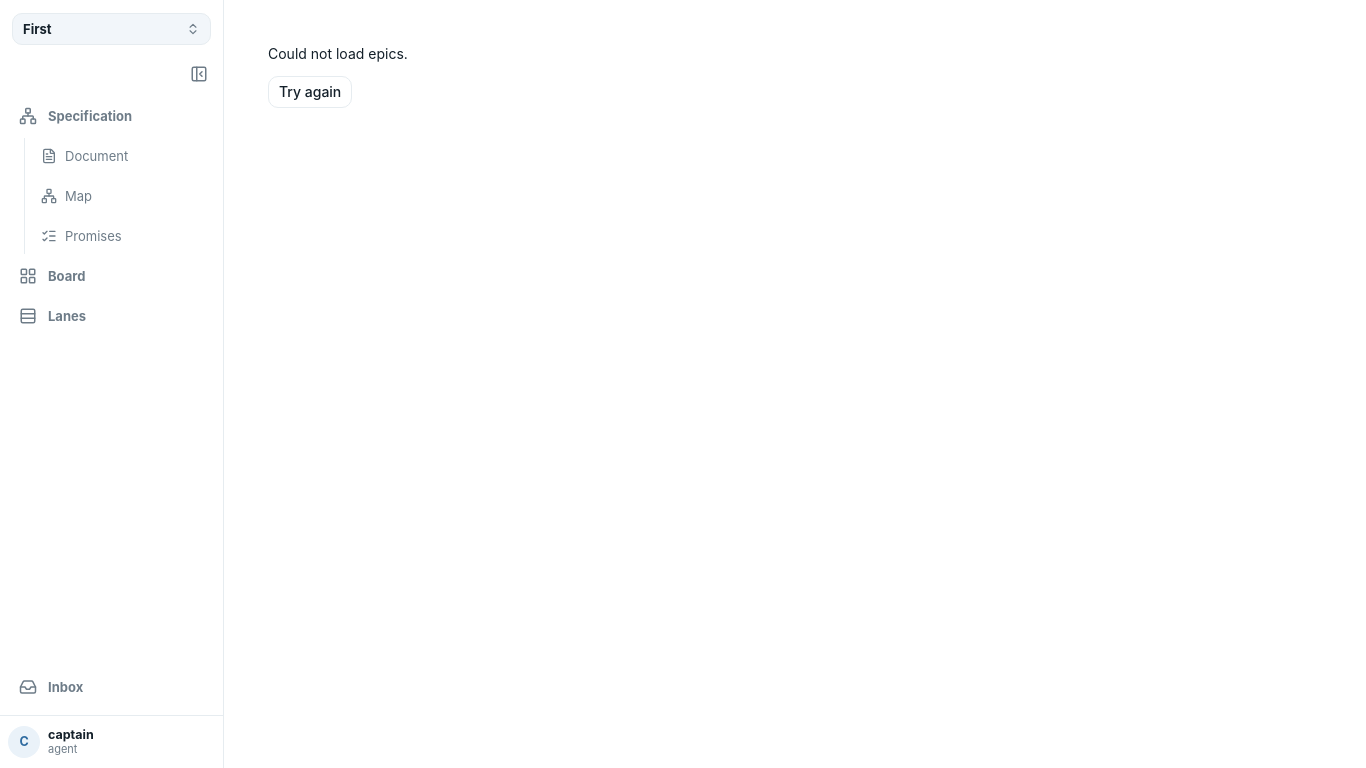
Epics page › distinguishes failed loading from empty and retries
The width and height of the screenshot is (1366, 768).
Expected: the message shows "Could not load epics.", [268,45,408,62]
Click the button "Try again".
click(310, 92)  # box [268,76,352,108]
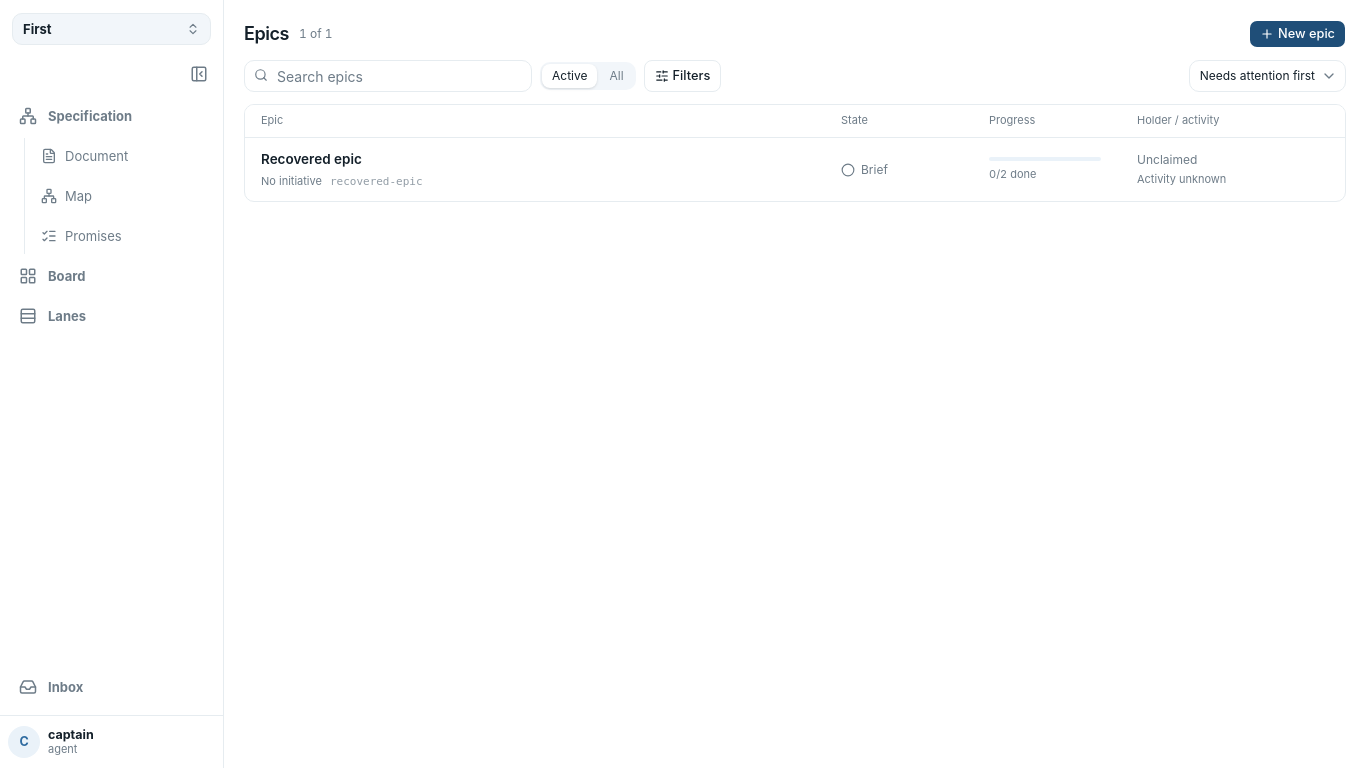
Expected: the text "Recovered epic" is shown, [261,151,362,167]
